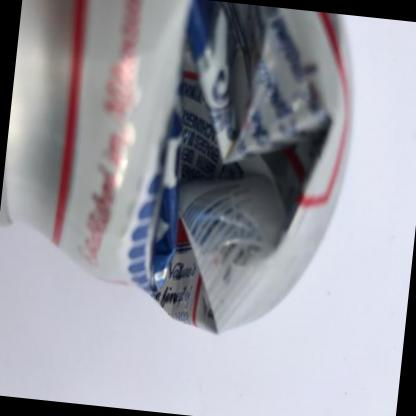Metal: (0, 0, 350, 331)
